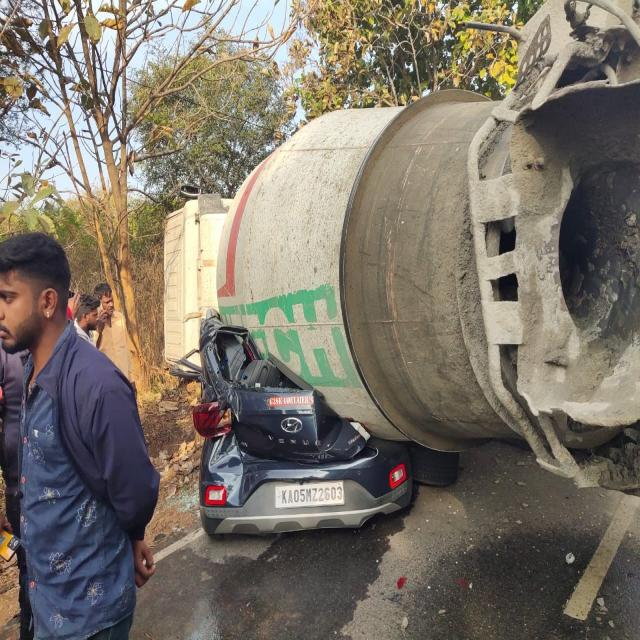accident: (165, 0, 640, 488), (172, 317, 412, 535)
